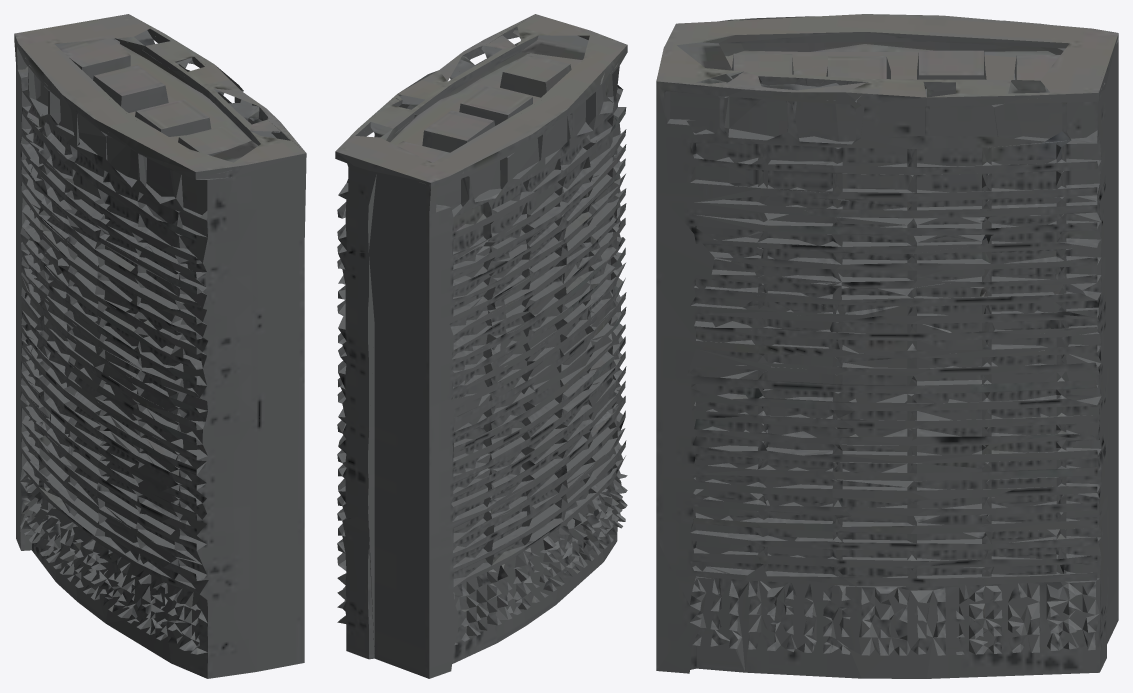
File: t_-5_7.coat.glb
3 renders of one model, left to right at view 1: azimuth 30°, elevation 25°; view 2: azimuth 150°, elevation 25°; view 3: azimuth 270°, elevation 25°, orthographic. The views are drawn at different scales.
Visible parts, largest first — view 1: far; view 2: far; view 3: far.
Boxes of the visible parts, box(x1,y1,x2,y2) form: far: box(14, 14, 306, 678); far: box(335, 14, 627, 678); far: box(656, 14, 1118, 678).
Size of the model in its own units: 30.2 by 100 by 71.1.
Materials: 1 (1 with a texture image).
